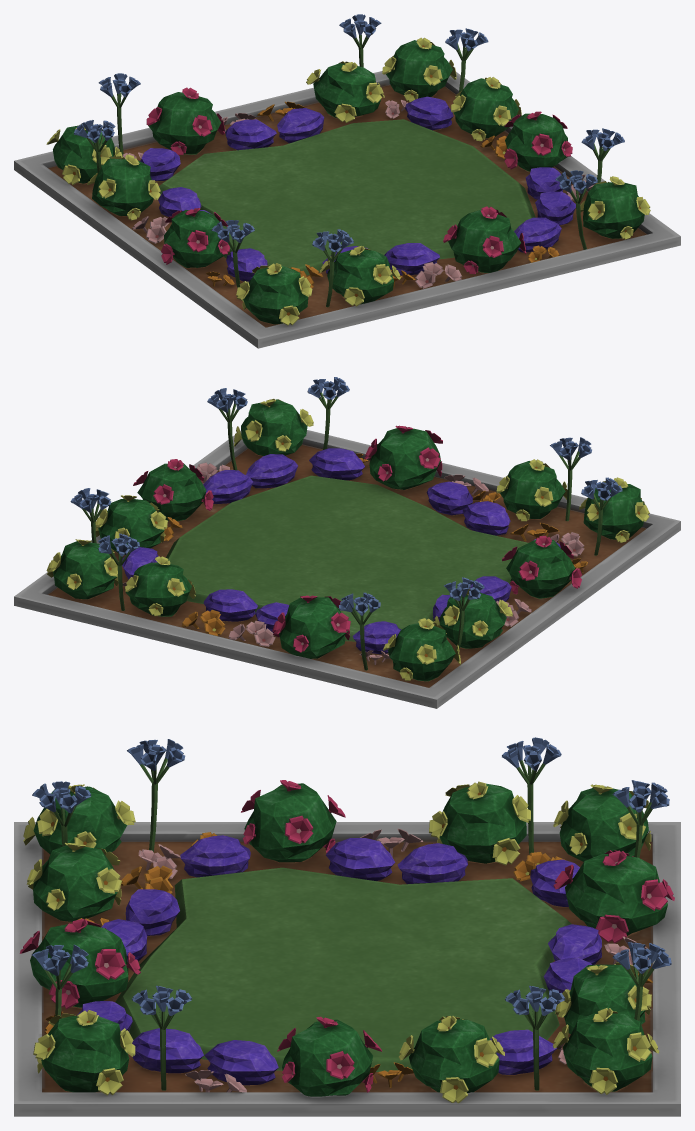
The picture shows the model from 3 angles, top to bottom: view 1: azimuth 30°, elevation 25°; view 2: azimuth 150°, elevation 25°; view 3: azimuth 270°, elevation 25°; orthographic projection. The views are drawn at different scales.
Visible parts, largest first — view 1: Node1; view 2: Node1; view 3: Node1.
Part boxes in pixels (left/top/right/bottom): Node1: left=14, top=14, right=680, bottom=348; Node1: left=14, top=377, right=680, bottom=708; Node1: left=14, top=737, right=680, bottom=1116.
Size of the model in its own units: 24.18 by 4.27 by 23.96.
Materials: 1 (1 with a texture image).
